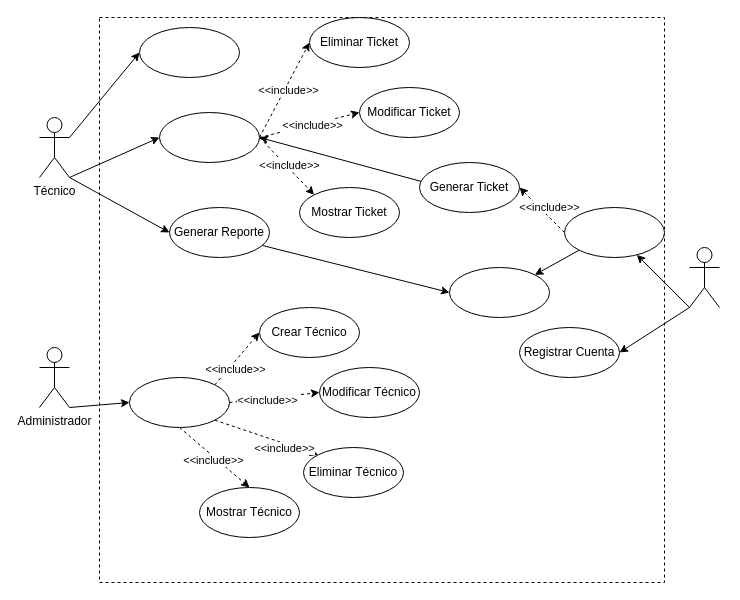
Image size: 740x600. Some labels were removed from this diagram. Here are the shapes that lost their labels. From the top down, the centre of each, then its label:
[189,52]: Consultar Historial de Reparaciones
[209,137]: Gestionar Tickets
[614,232]: Registrar Equipo
[499,292]: Mostrar Estado del Equipo
[704,277]: Cliente
[179,402]: Gestionar Técnicos
